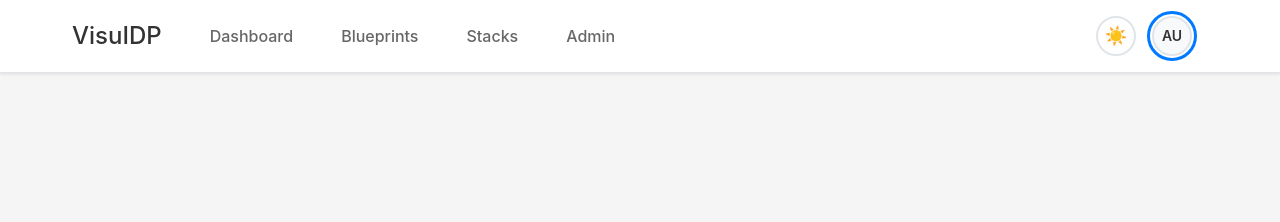
Test: Header Integration Tests › Admin user integration › should show admin link and profile menu for admin users
This screenshot has width=1280, height=222.
Check: the link "Admin" is shown, box [566,26,615,46]
Note: Profile menu should work
Click the button with aria-label "User profile menu" at (1172, 36), box [1152,16,1192,56]
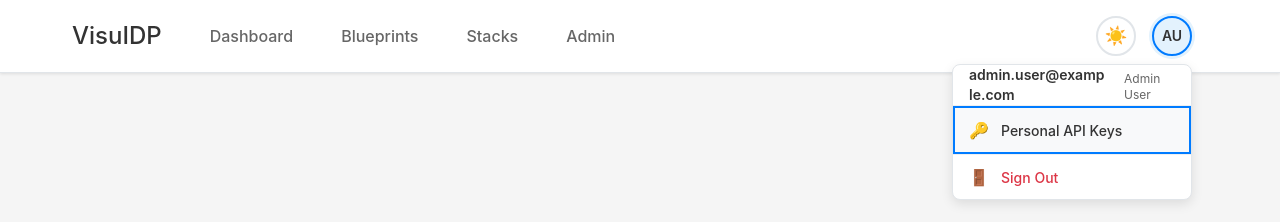
Check: the menu is shown, box [952,64,1192,200]
Check: the text "admin.user@example.com" is shown, box [969,65,1108,105]
